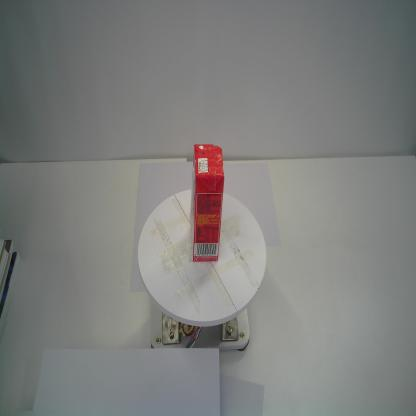Milk: (187, 140, 228, 266)
